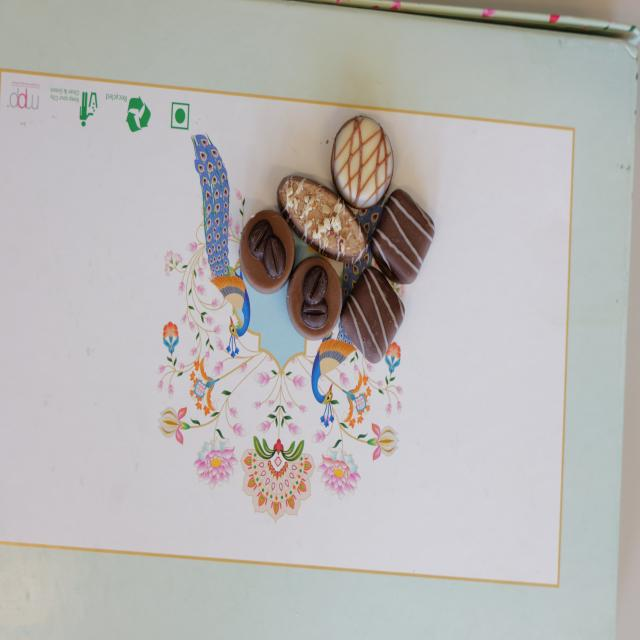Amandina: (278, 173, 370, 266)
Arabia: (240, 208, 295, 293), (287, 252, 341, 338)
Creme_brulee: (333, 115, 394, 208)
Stracciatella: (338, 261, 405, 363), (370, 187, 434, 285)
